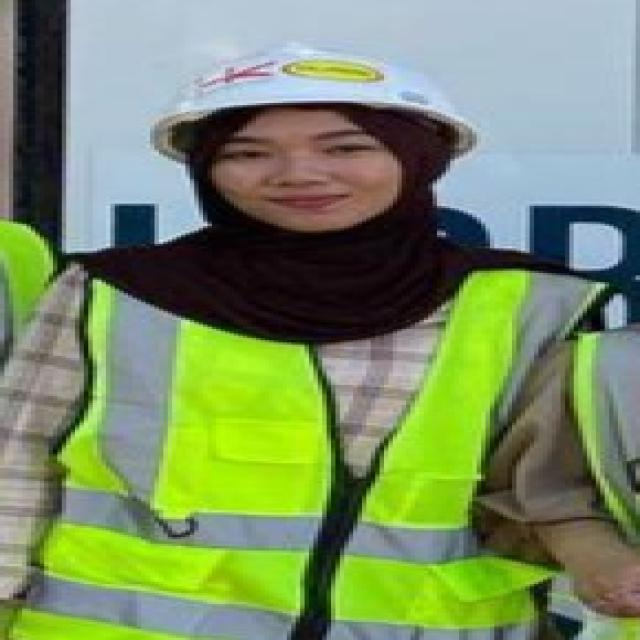safetyhelmet: (146, 44, 480, 199)
